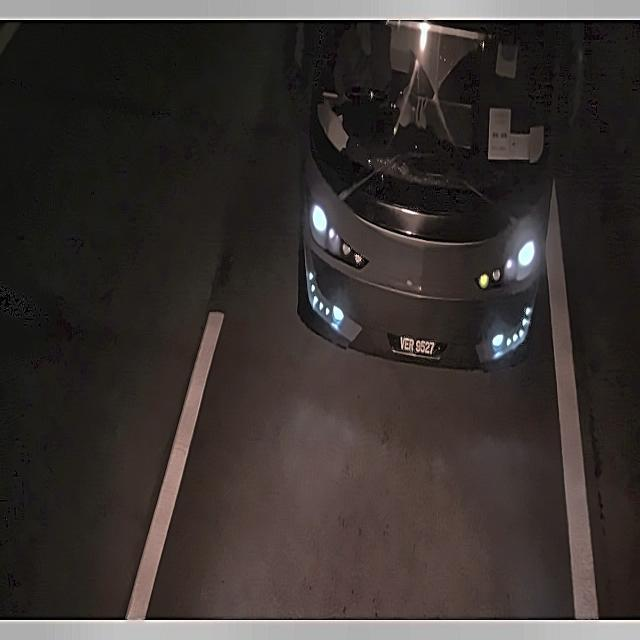car: (381, 322, 450, 366)
